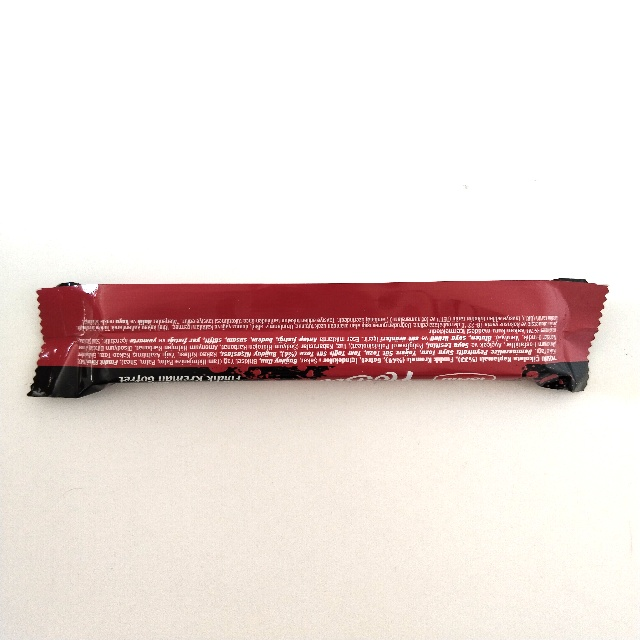torku_nobir_gofret: (32, 279, 616, 400)
